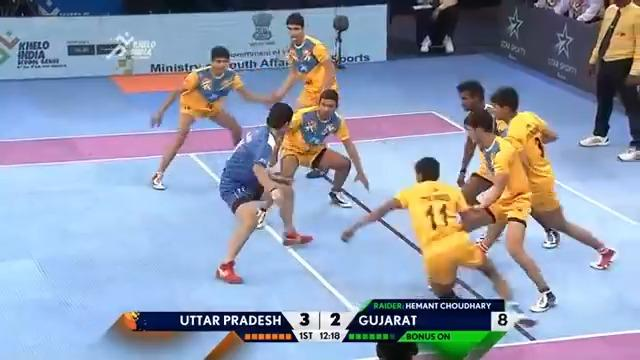Player: (340, 156, 520, 311), (487, 85, 617, 270), (459, 108, 558, 312), (149, 44, 281, 190), (255, 88, 369, 245), (269, 11, 353, 208)
Raider: (215, 102, 313, 285)
referee: (577, 0, 639, 161), (419, 0, 460, 54)
